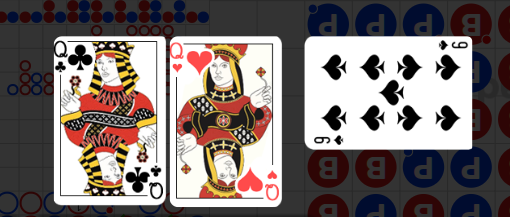9S: (313, 134, 346, 147), (436, 40, 469, 52)
QC: (55, 36, 99, 83), (122, 157, 166, 203)
